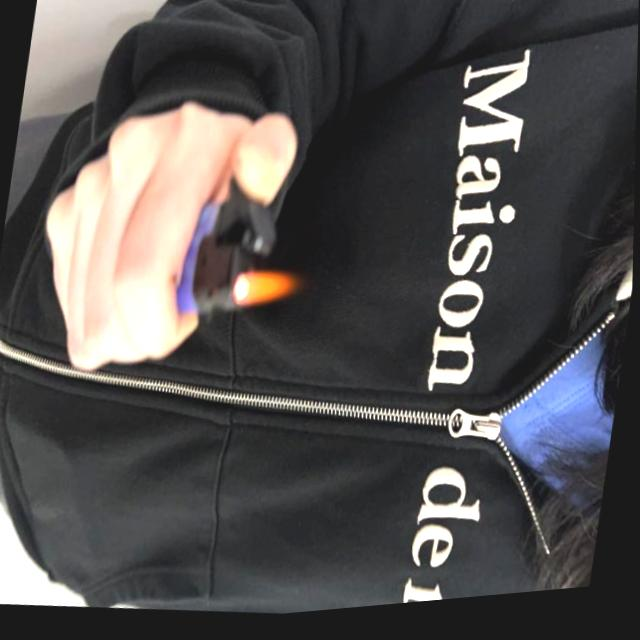Fire: (232, 268, 306, 317)
